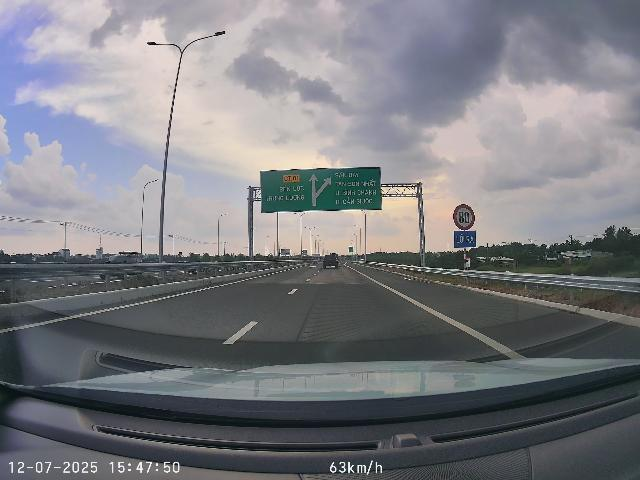127-toc-do-toi-da-80: (453, 204, 475, 230)
